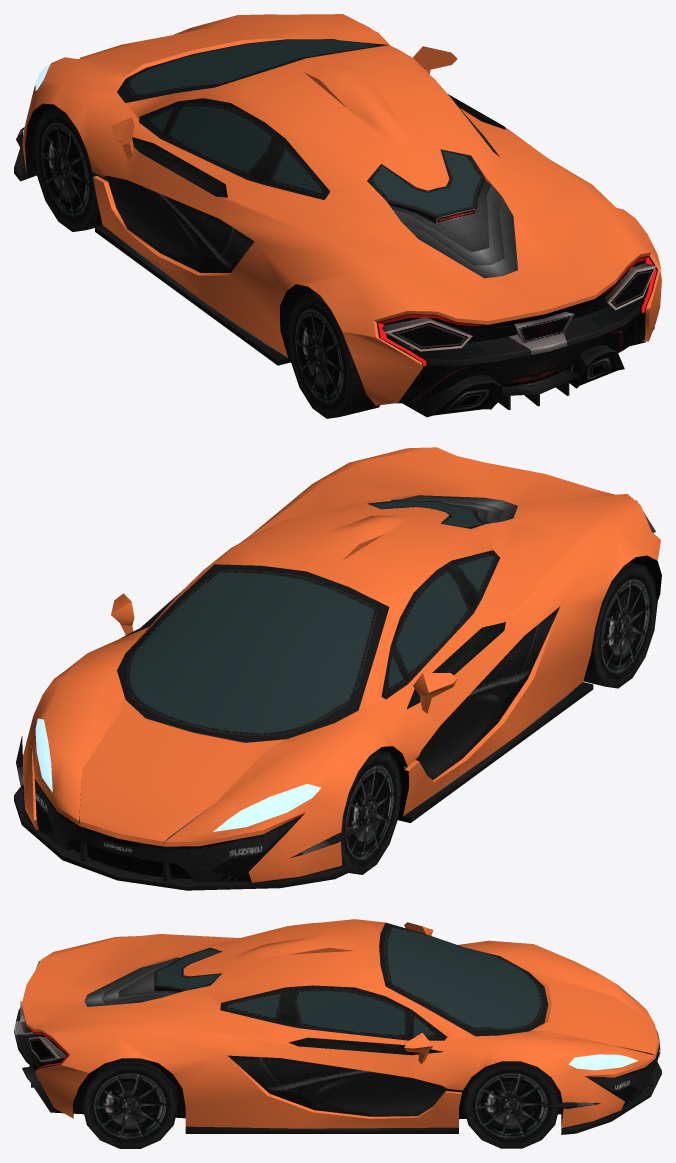
The model's file is car_77.glb.
3 renders of one model, top to bottom at view 1: azimuth 30°, elevation 25°; view 2: azimuth 150°, elevation 25°; view 3: azimuth 270°, elevation 25°, orthographic. The views are drawn at different scales.
Visible parts, largest first — view 1: car_77; view 2: car_77; view 3: car_77.
Boxes of the visible parts, x1,y1,x2,y2 form: car_77: (14,14,661,418); car_77: (14,447,661,890); car_77: (14,919,661,1148).
Size of the model in its own units: 24.98 by 14 by 52.98.
11 materials, 11 textured.
